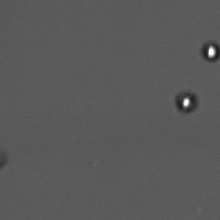Living Cell: (174, 89, 199, 115), (201, 41, 219, 63)
